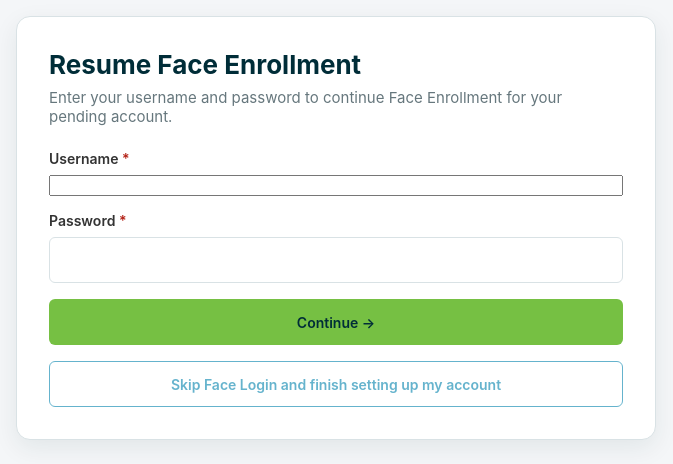
Test: FaceEnrollmentPage › resumes enrollment with a new token after entering credentials
The width and height of the screenshot is (673, 464).
Type "pending.user" into the field labelled "Username *" at (336,186), box [49,175,623,196]
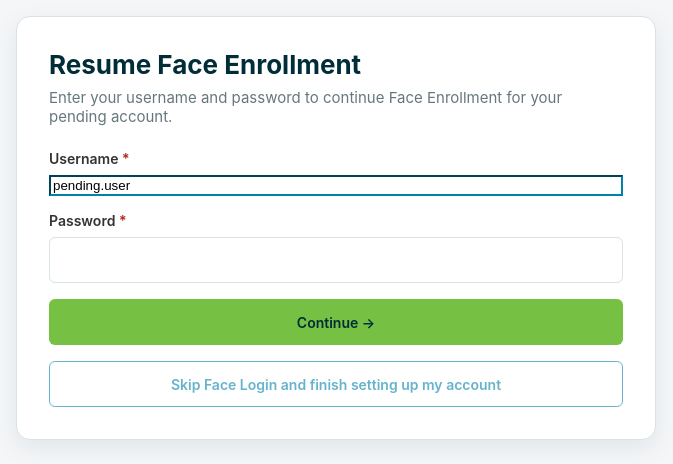
Type "StrongPass123" into the password field labelled "Password *" at (336,260), box [49,237,623,283]
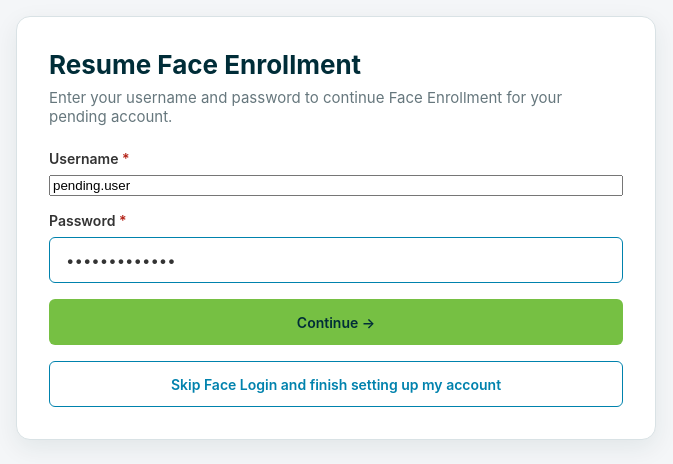
Click the button "Continue →" at (336,322), box [49,299,623,345]
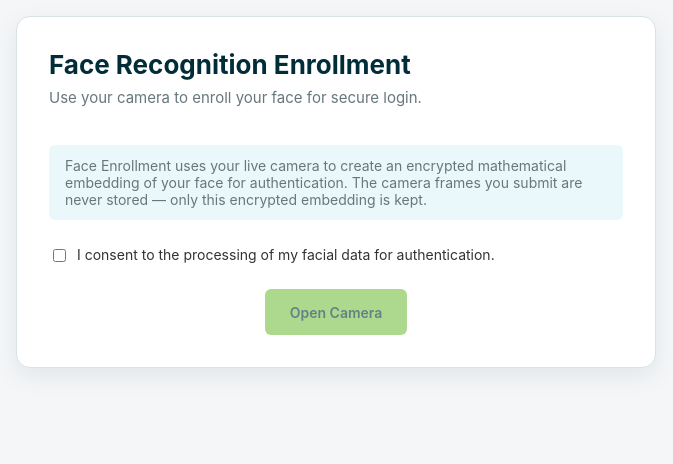
Now the button "Open Camera" is shown, box [265,289,407,335]
